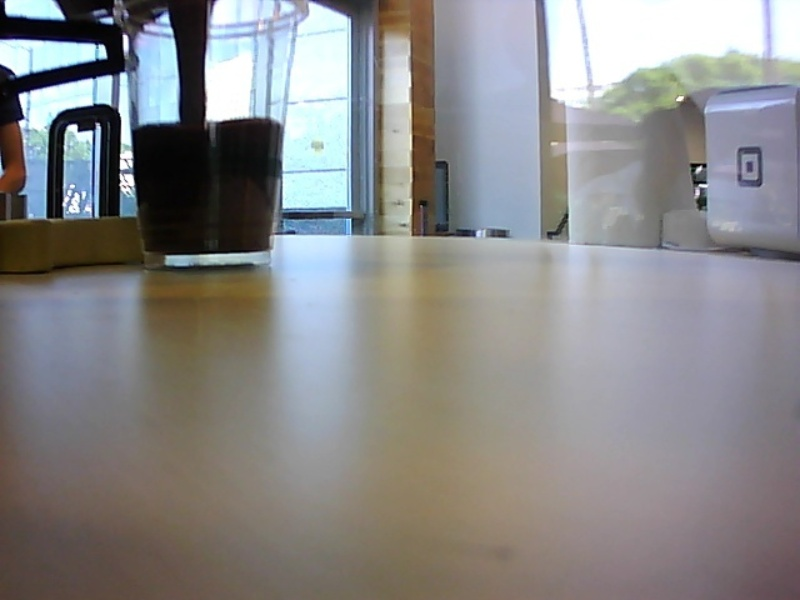cup: (109, 1, 313, 271)
limit: (126, 111, 285, 137)
